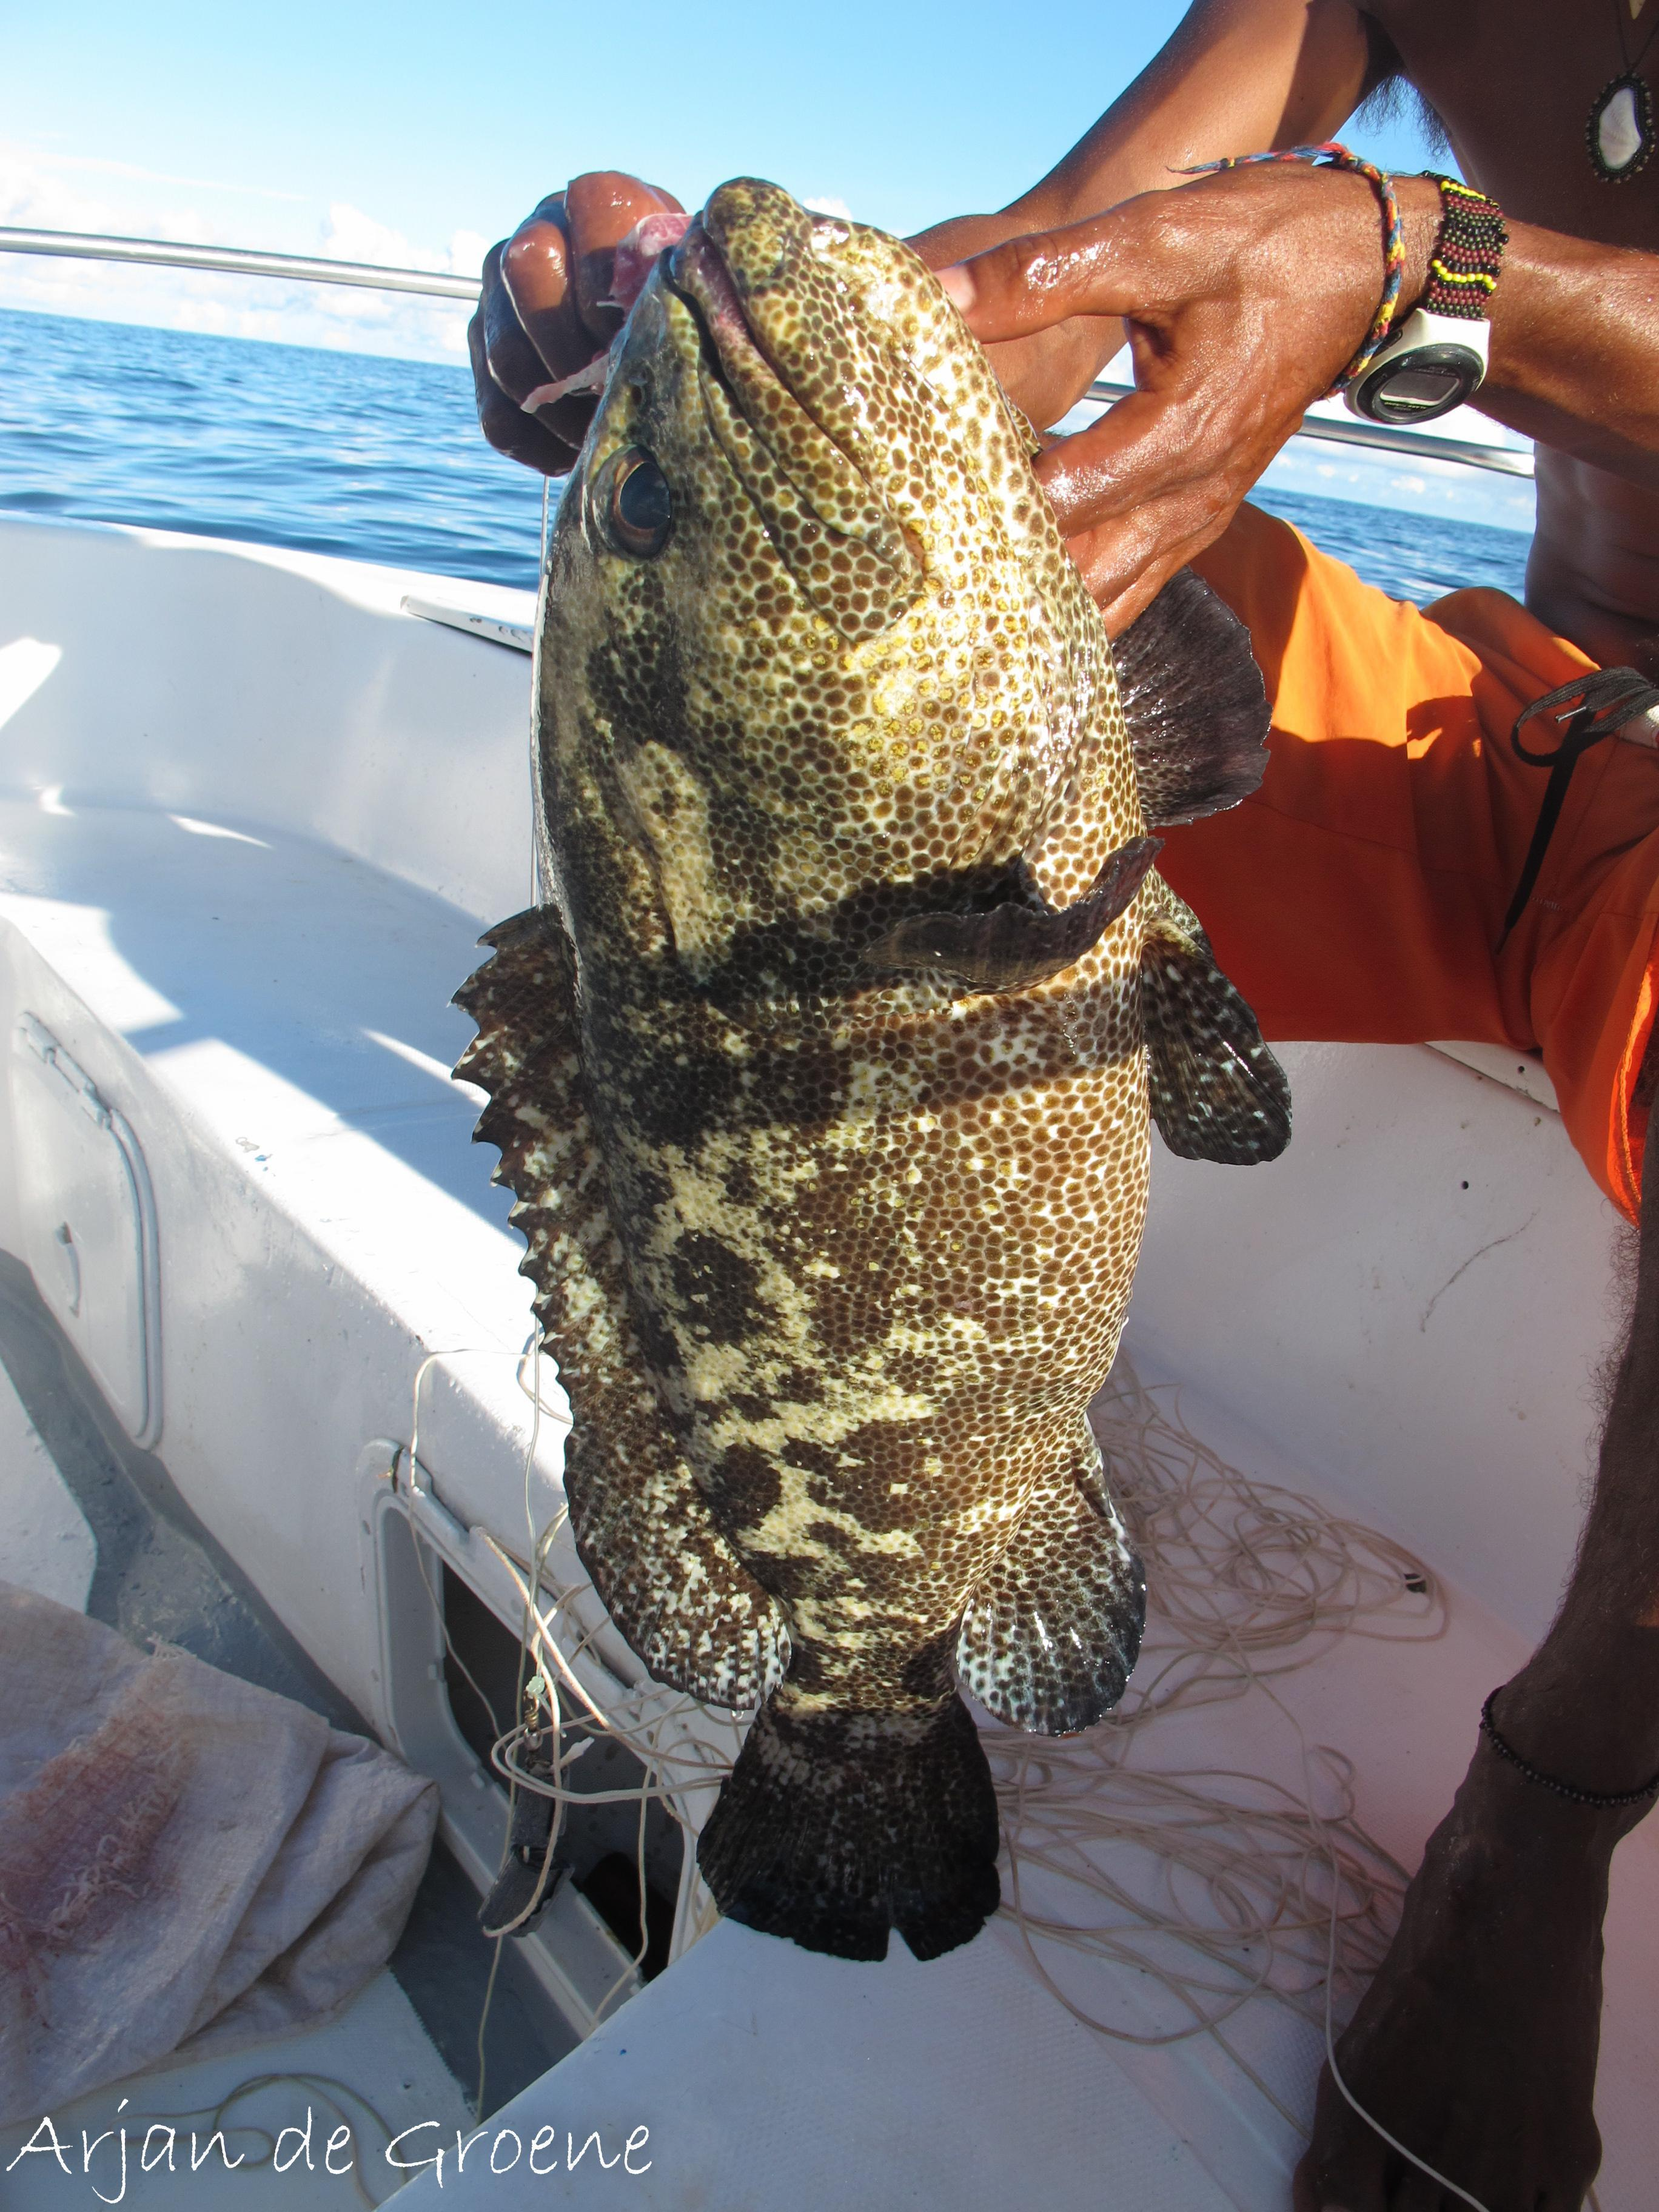Fish: (249, 146, 1382, 1986)
